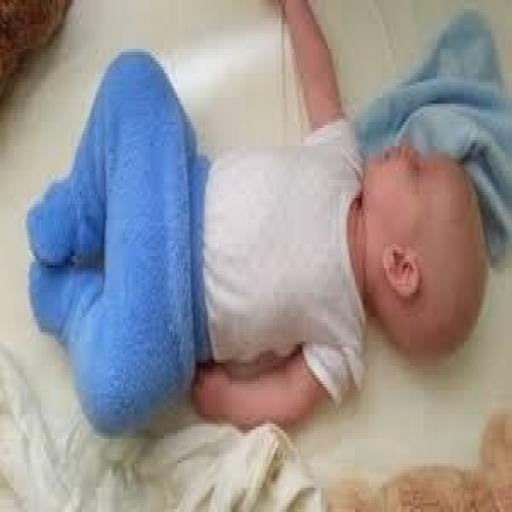sleeping: (24, 0, 508, 439)
